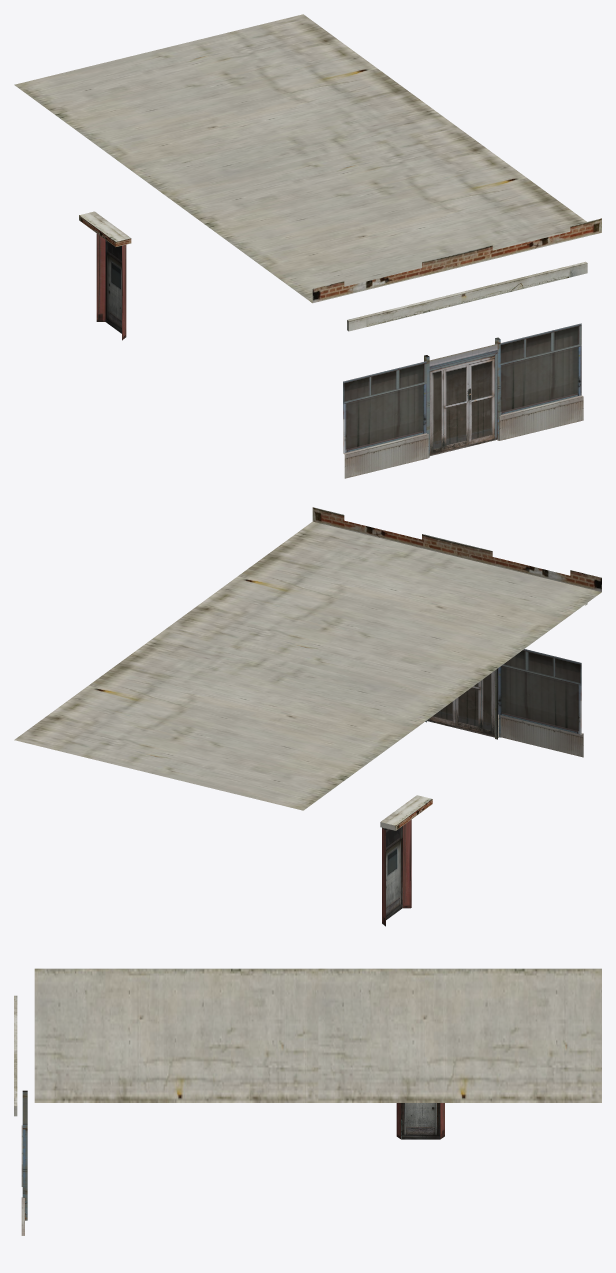
File: rural_storesmall_5_rural_facade_flr_2_0_lev2.glb
The picture shows the model from 3 angles, top to bottom: view 1: azimuth 30°, elevation 25°; view 2: azimuth 150°, elevation 25°; view 3: azimuth 270°, elevation 25°; orthographic projection. The views are drawn at different scales.
Parts seen in each view (by area): view 1: rural_storesmall_5_rural_facade_flr_2_0_lev2; view 2: rural_storesmall_5_rural_facade_flr_2_0_lev2; view 3: rural_storesmall_5_rural_facade_flr_2_0_lev2.
Part boxes in pixels (bbox=[...]): rural_storesmall_5_rural_facade_flr_2_0_lev2: bbox=[14, 14, 601, 478]; rural_storesmall_5_rural_facade_flr_2_0_lev2: bbox=[14, 507, 601, 926]; rural_storesmall_5_rural_facade_flr_2_0_lev2: bbox=[14, 968, 601, 1235].
Bounding box in the file's own units: 8.08 × 4.86 × 14.29.
Materials: 1 (1 with a texture image).
